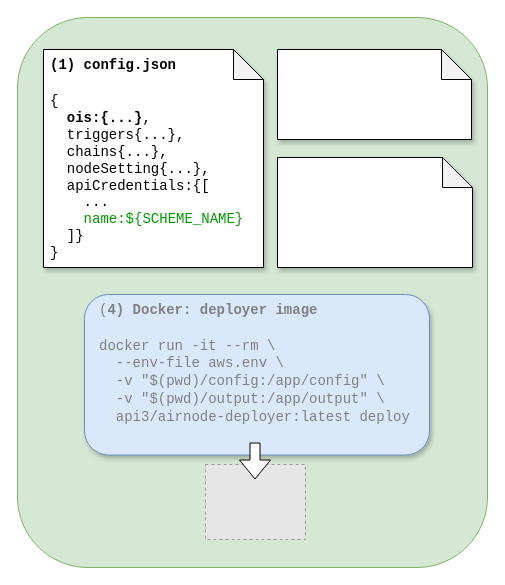
The diagram is 505 pixels wide and 585 high, and some of its shapes have lost their labels. Grey dashed boxes stand in for pictures. The centre of each missing label's shape, as x and y in pixels:
(2) secrets.env SCHEME_NAME="value" ...: (375,95)
(3) aws.env AWS_SECRET_KEY="value" AWS_SECRET_KEY="value": (375,213)
